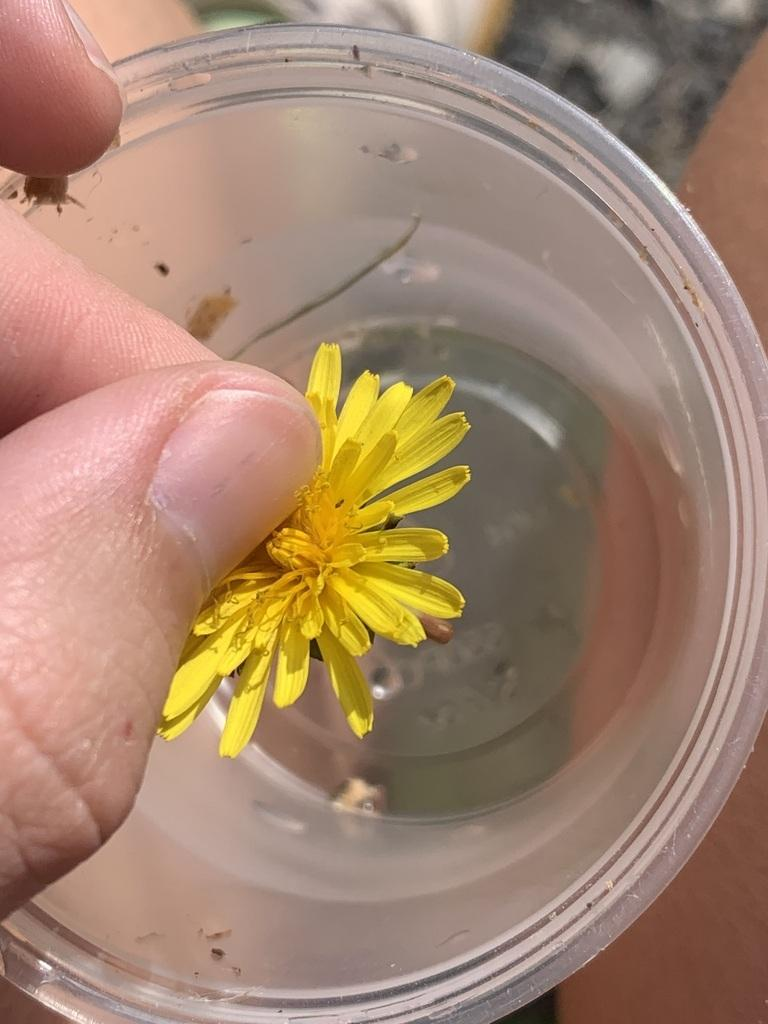tiny_pests: (331, 492, 348, 514)
